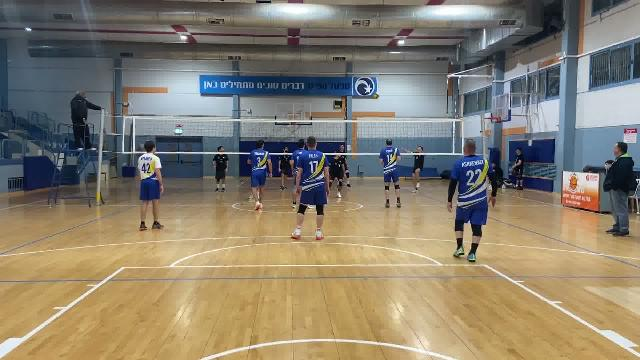ball: (373, 93, 380, 101)
